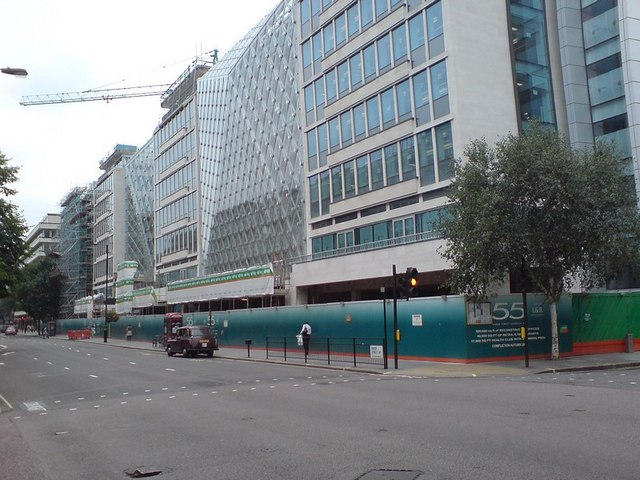fachada: (92, 0, 640, 312), (5, 182, 120, 322)
poste: (0, 40, 41, 94)
